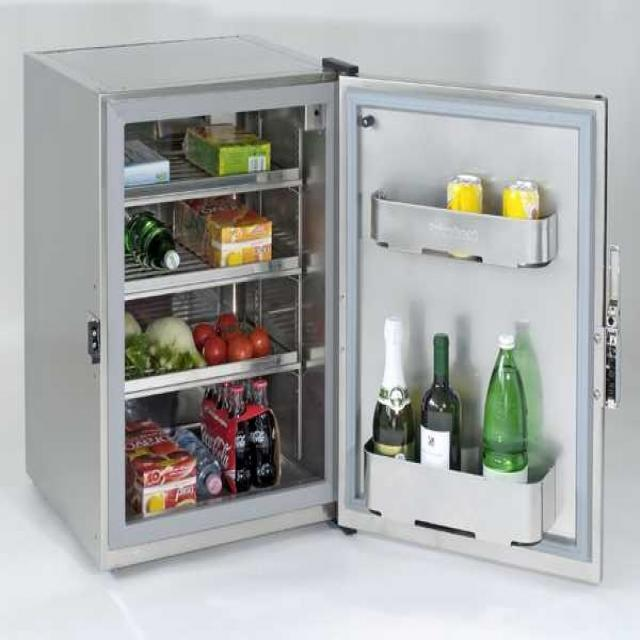refrigerator: (93, 66, 613, 588)
